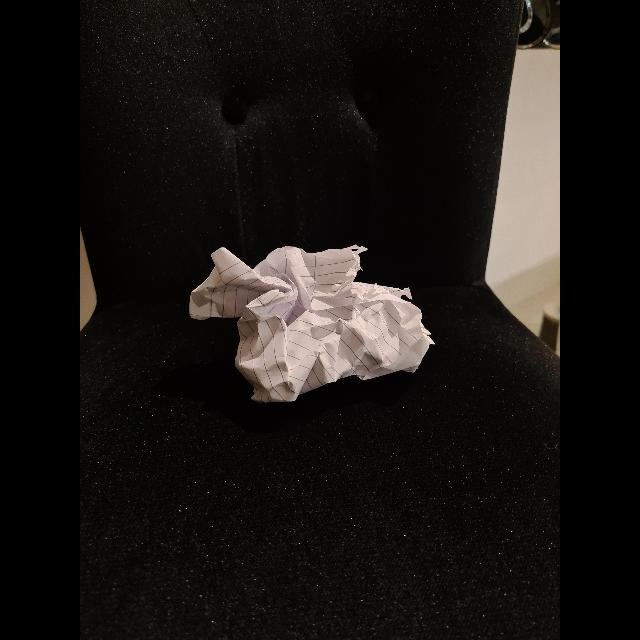trash: (178, 245, 434, 399)
